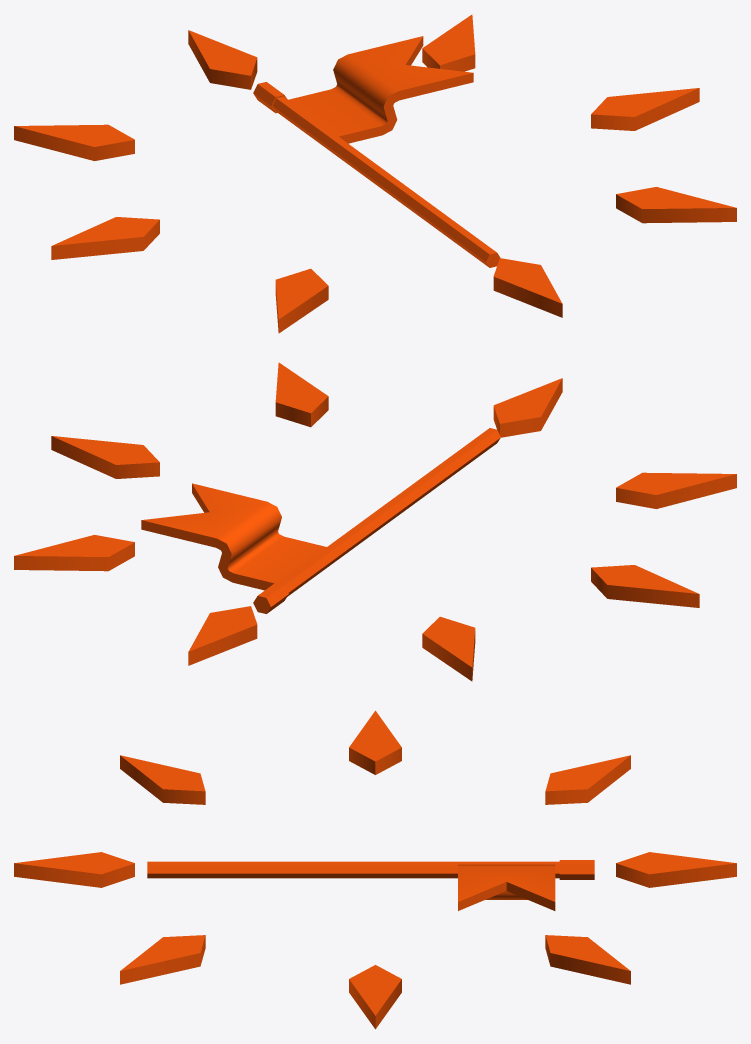
The model's file is expansion_area.fbx.
The picture shows the model from 3 angles, top to bottom: view 1: azimuth 30°, elevation 25°; view 2: azimuth 150°, elevation 25°; view 3: azimuth 270°, elevation 25°; orthographic projection. The views are drawn at different scales.
Visible parts, largest first — view 1: Цилиндр; view 2: Цилиндр; view 3: Цилиндр.
Boxes of the visible parts, x1,y1,x2,y2 form: Цилиндр: (14, 14, 736, 333); Цилиндр: (14, 362, 736, 681); Цилиндр: (14, 710, 736, 1029).
Bounding box in the file's own units: 170 × 10.94 × 170.
